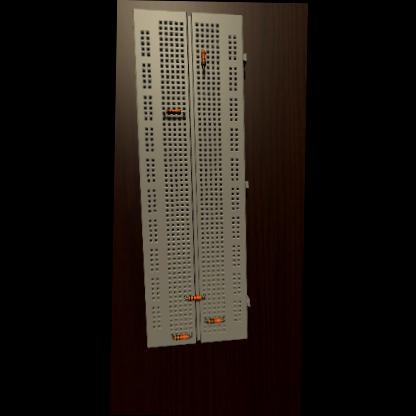breadboard: (125, 7, 254, 348)
resistor: (200, 49, 205, 66), (174, 332, 188, 338), (188, 294, 201, 300), (207, 316, 220, 322), (165, 108, 180, 113)
wire: (204, 316, 208, 320), (162, 109, 165, 113), (180, 110, 183, 113), (184, 294, 187, 297), (171, 332, 173, 336), (188, 330, 190, 334), (221, 314, 223, 318), (202, 294, 204, 297)
